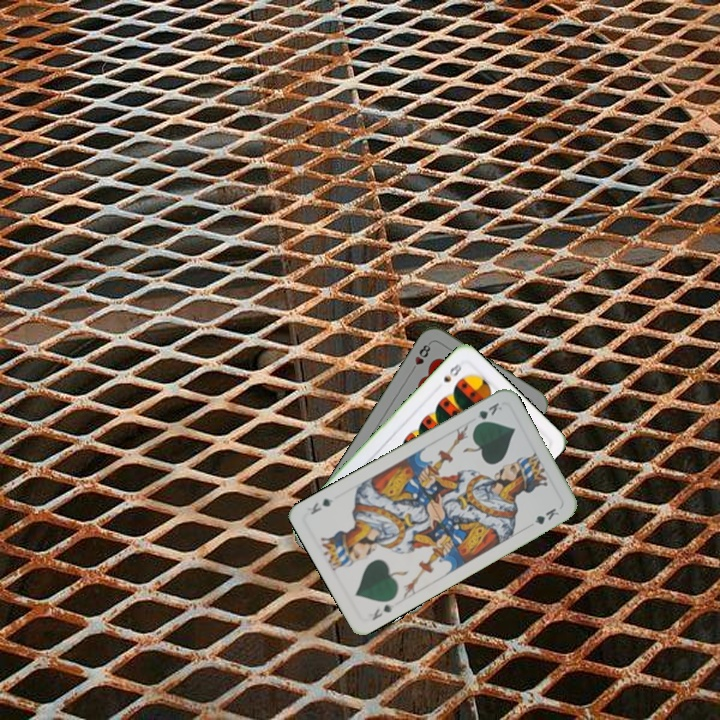GK: (470, 399, 505, 429), (368, 600, 395, 623)
H8: (407, 339, 433, 375)
S8: (439, 359, 464, 385)
